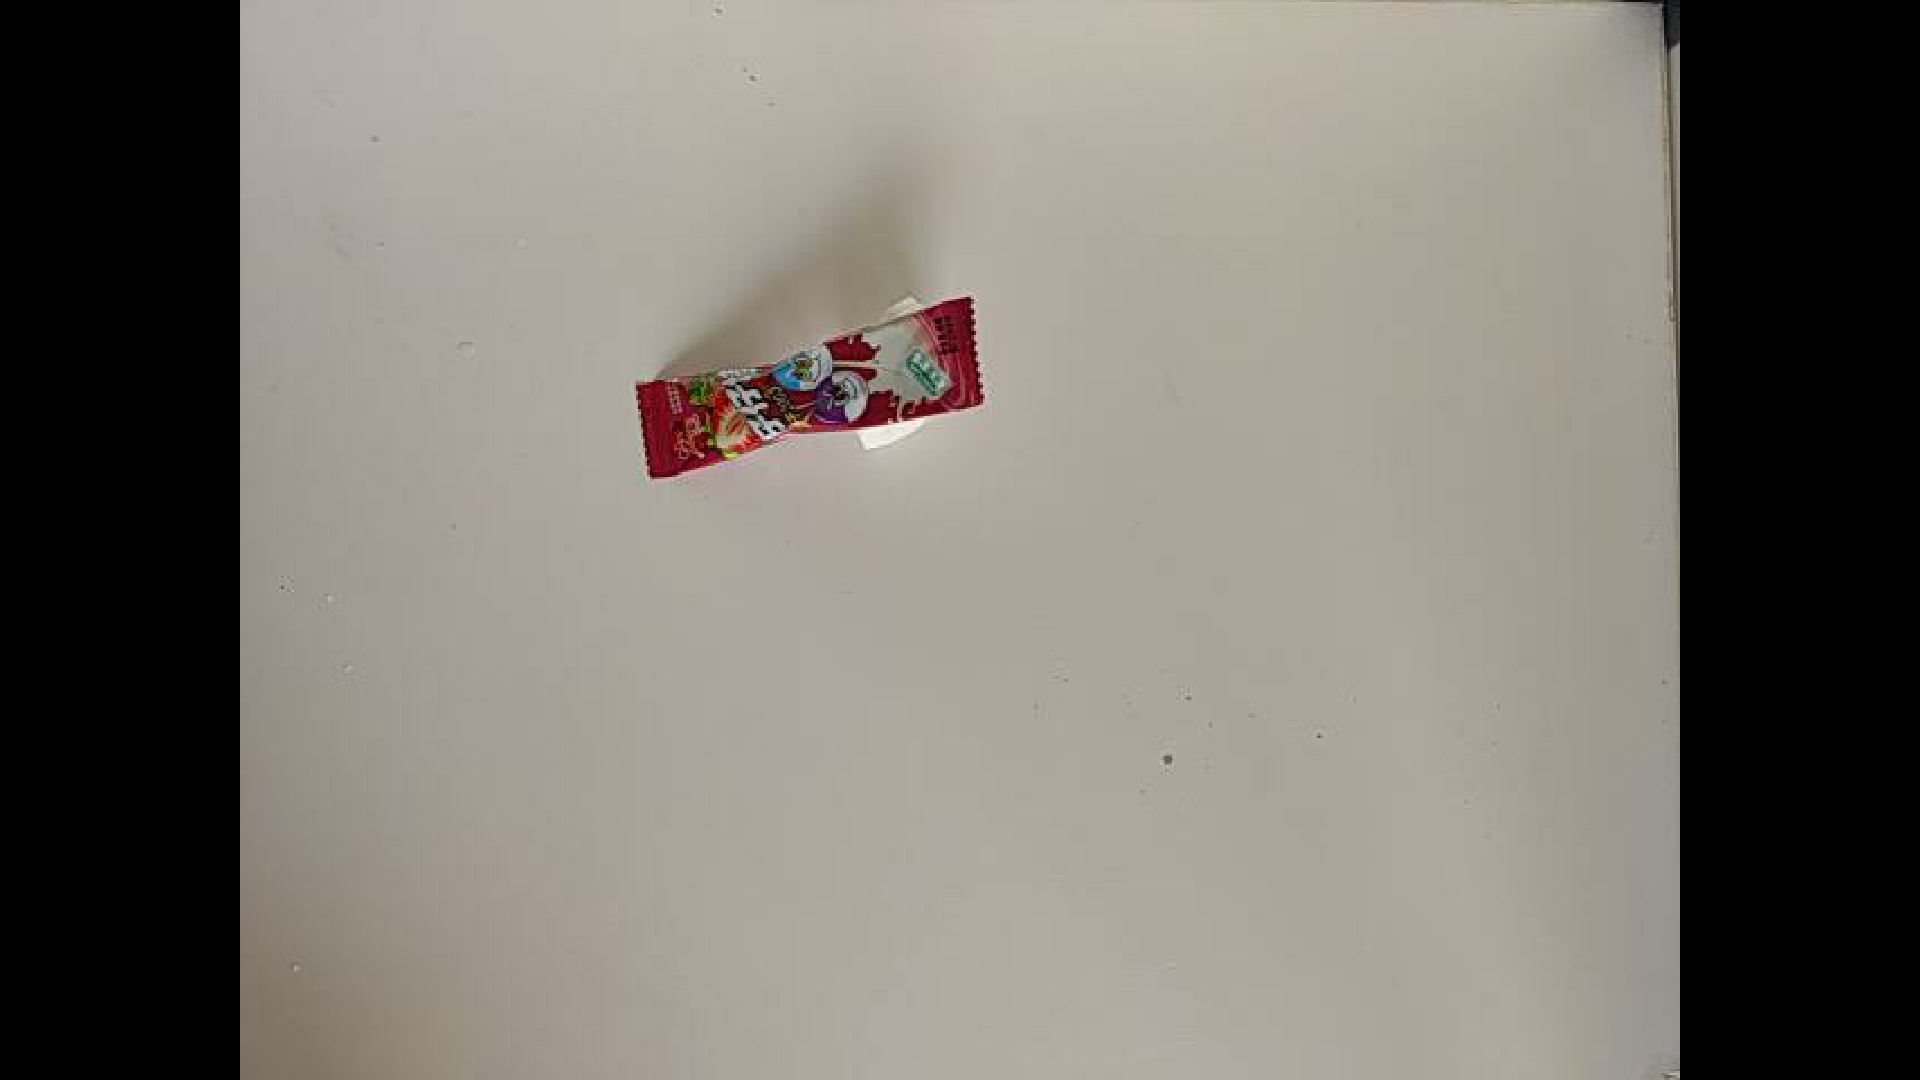sugar: (624, 322, 1015, 485)
